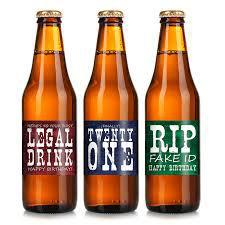beer: (23, 10, 201, 214)
